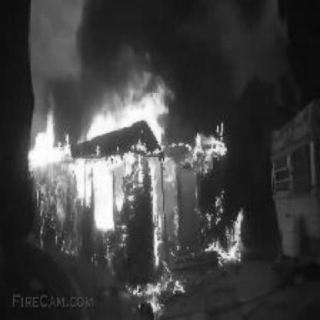Fire: (10, 64, 277, 316)
